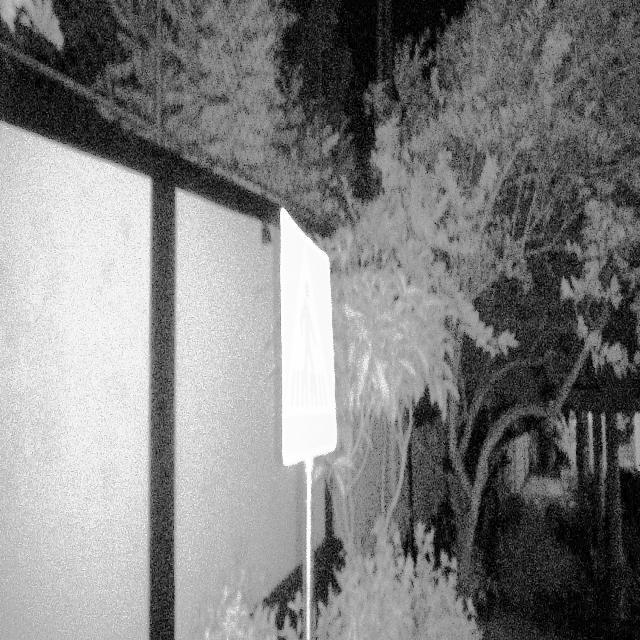Sign: (277, 202, 339, 470)
